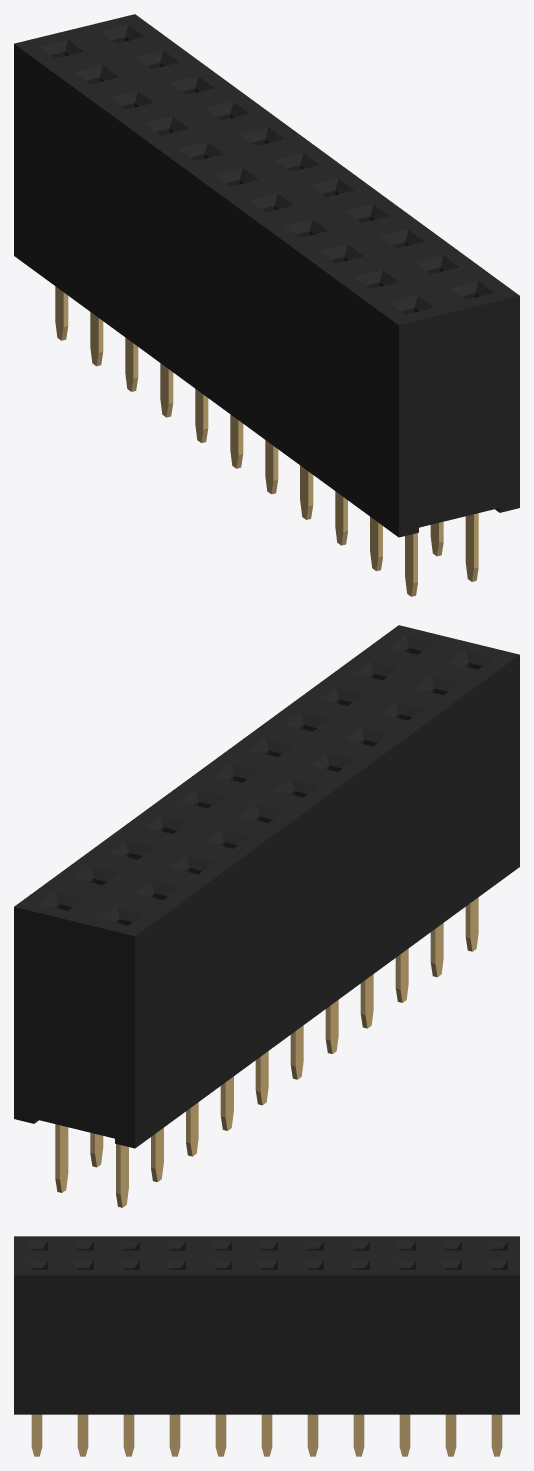
Rendered from kc-pinsocket_2x11_p2.54mm_vertical.glb.
3 views of the same model, one above another, from view 1: azimuth 30°, elevation 25°; view 2: azimuth 150°, elevation 25°; view 3: azimuth 270°, elevation 25° (orthographic). The views are drawn at different scales.
Visible parts, largest first — view 1: 0_0_0_0, 0.75_0.5_0.25_0.9; view 2: 0_0_0_0, 0.75_0.5_0.25_0.9; view 3: 0_0_0_0, 0.75_0.5_0.25_0.9.
Part boxes in pixels (<box>): 0_0_0_0: <box>14,14,519,537</box>; 0.75_0.5_0.25_0.9: <box>55,286,478,596</box>; 0_0_0_0: <box>14,625,519,1148</box>; 0.75_0.5_0.25_0.9: <box>55,897,478,1207</box>; 0_0_0_0: <box>14,1236,519,1414</box>; 0.75_0.5_0.25_0.9: <box>31,1414,502,1456</box>.
Bounding box in the file's own units: 0.5079 × 1.16 × 2.79.
